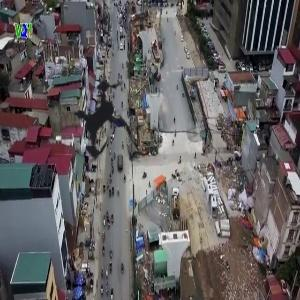drone: (24, 41, 181, 198)
